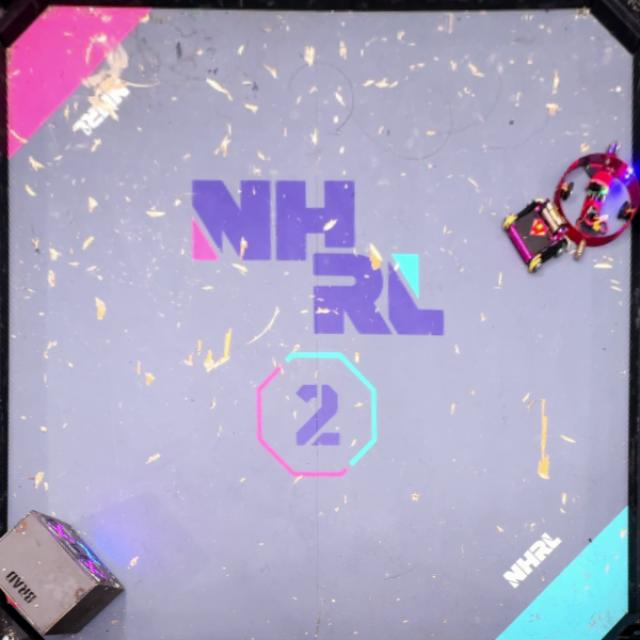housebot: (0, 508, 124, 634)
robot: (554, 140, 640, 260), (503, 198, 569, 274)
